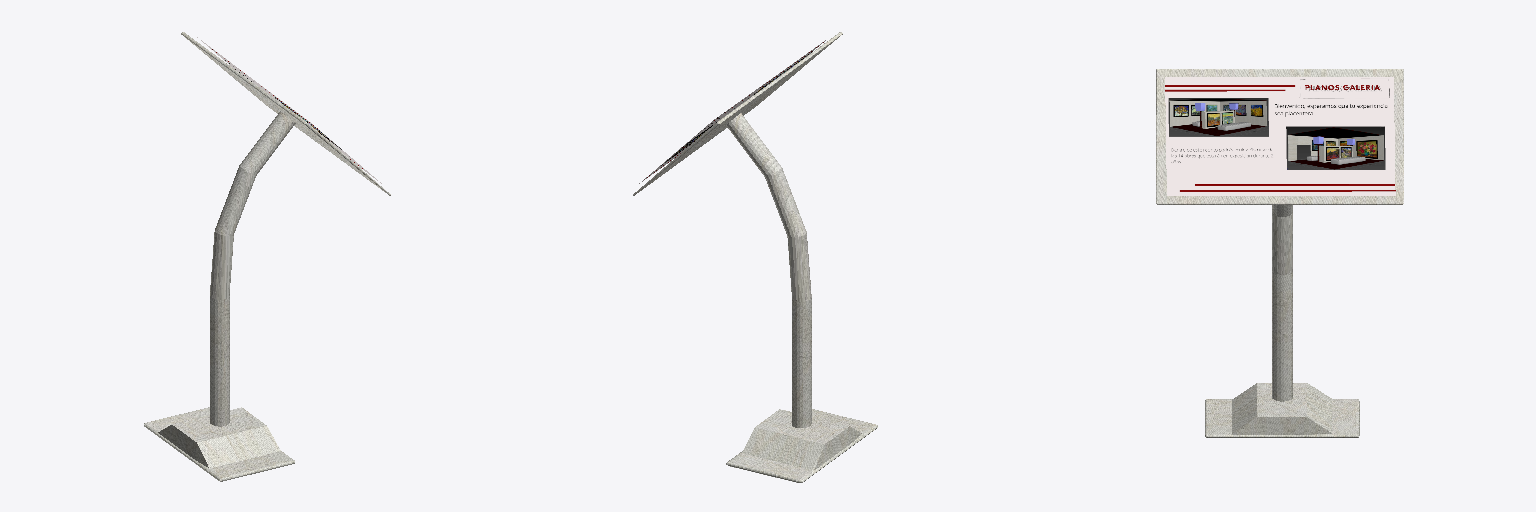
3 views of the same model, side by side, from view 1: azimuth 30°, elevation 25°; view 2: azimuth 150°, elevation 25°; view 3: azimuth 270°, elevation 25° (orthographic).
Parts seen in each view (by area): view 1: Tube001, ChamferBox001, ChamferBox002; view 2: Tube001, ChamferBox001, ChamferBox002, Plane001; view 3: Plane001, ChamferBox001, ChamferBox002, Tube001.
Part boxes in pixels (x1,y1,x2,y2): Tube001: (210, 111, 295, 426); ChamferBox001: (144, 407, 294, 481); ChamferBox002: (181, 32, 390, 195); Tube001: (726, 113, 811, 427); ChamferBox001: (726, 409, 877, 482); ChamferBox002: (633, 32, 842, 195); Plane001: (639, 40, 825, 183); Plane001: (1165, 77, 1395, 195); ChamferBox001: (1205, 383, 1359, 437); ChamferBox002: (1156, 69, 1403, 204); Tube001: (1272, 205, 1292, 401).
Size of the model in its own units: 10.76 by 25.3 by 15.66.
2 materials, 2 textured.